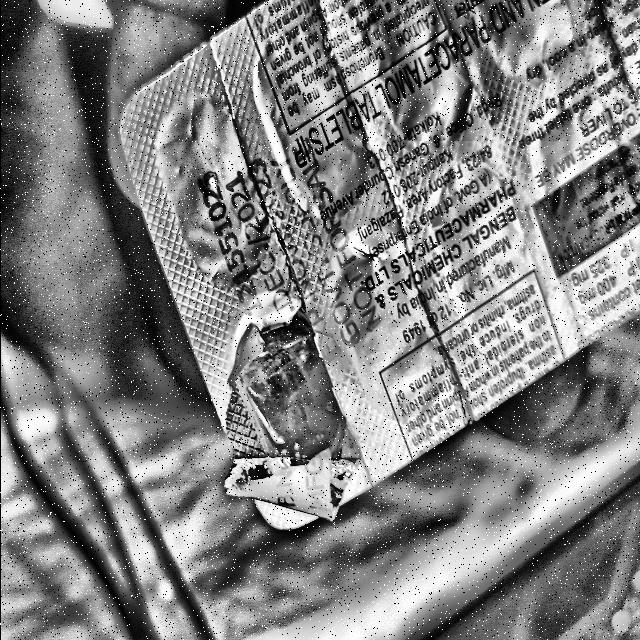IBUPROFEN AND PARACETAMOL TABLETS: (352, 0, 621, 141)
